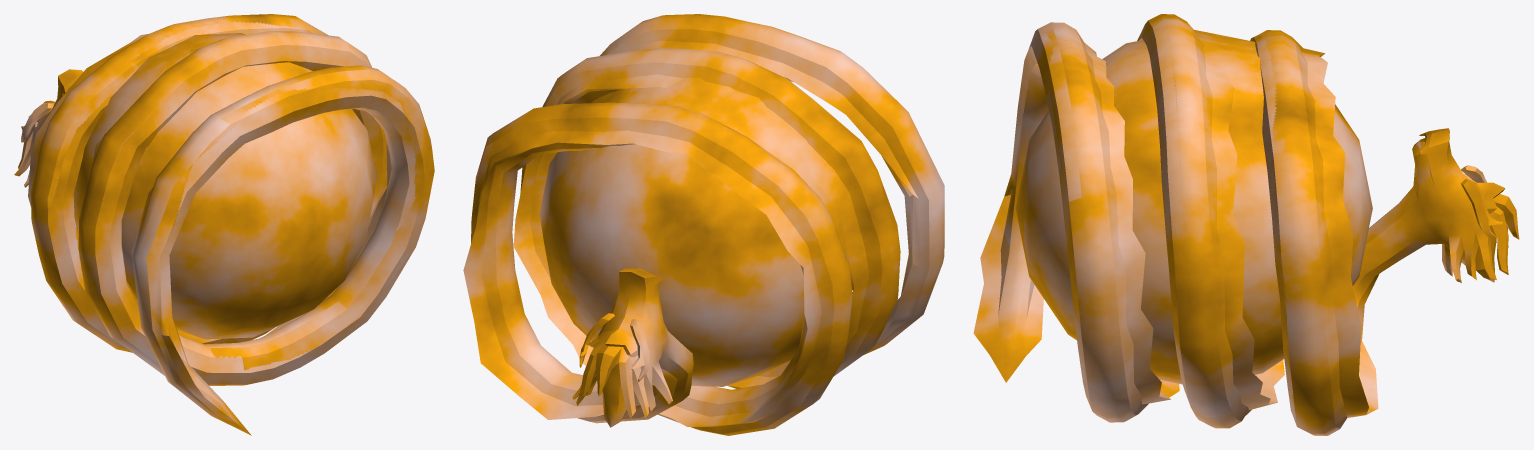
The model's file is RelicBall Naga.fbx.
The picture shows the model from 3 angles, left to right: view 1: azimuth 30°, elevation 25°; view 2: azimuth 150°, elevation 25°; view 3: azimuth 270°, elevation 25°; orthographic projection. The views are drawn at different scales.
Parts seen in each view (by area): view 1: Relic Naga; view 2: Relic Naga; view 3: Relic Naga.
Boxes of the visible parts, x1,y1,x2,y2 form: Relic Naga: (14, 14, 434, 435); Relic Naga: (463, 14, 944, 435); Relic Naga: (973, 14, 1519, 435).
Size of the model in its own units: 40.39 by 38.57 by 50.16.
Materials: 1 (1 with a texture image).
